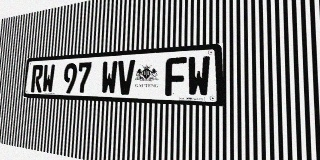7: (76, 62, 92, 94)
9: (63, 63, 78, 93)
F: (165, 57, 187, 96)
R: (31, 65, 44, 93)
V: (117, 60, 135, 95)
W: (187, 56, 210, 97), (101, 61, 118, 94), (42, 64, 55, 93)
